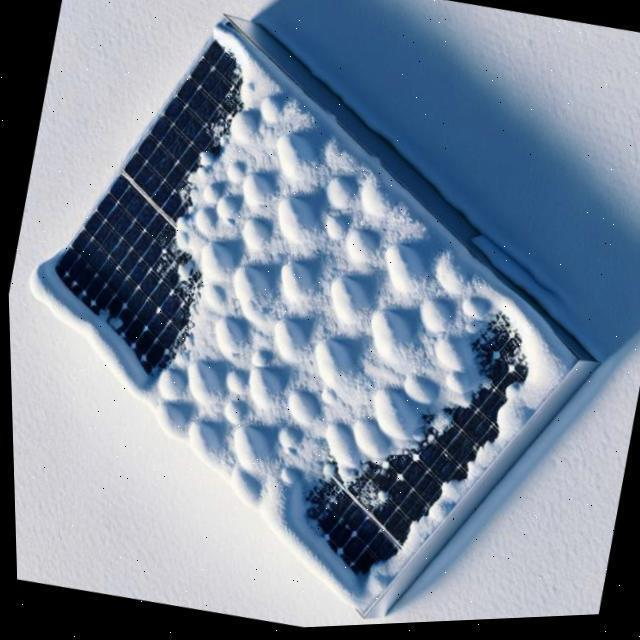Anomaly Solar Panel: (7, 22, 589, 619)
Snow: (7, 22, 593, 623)
